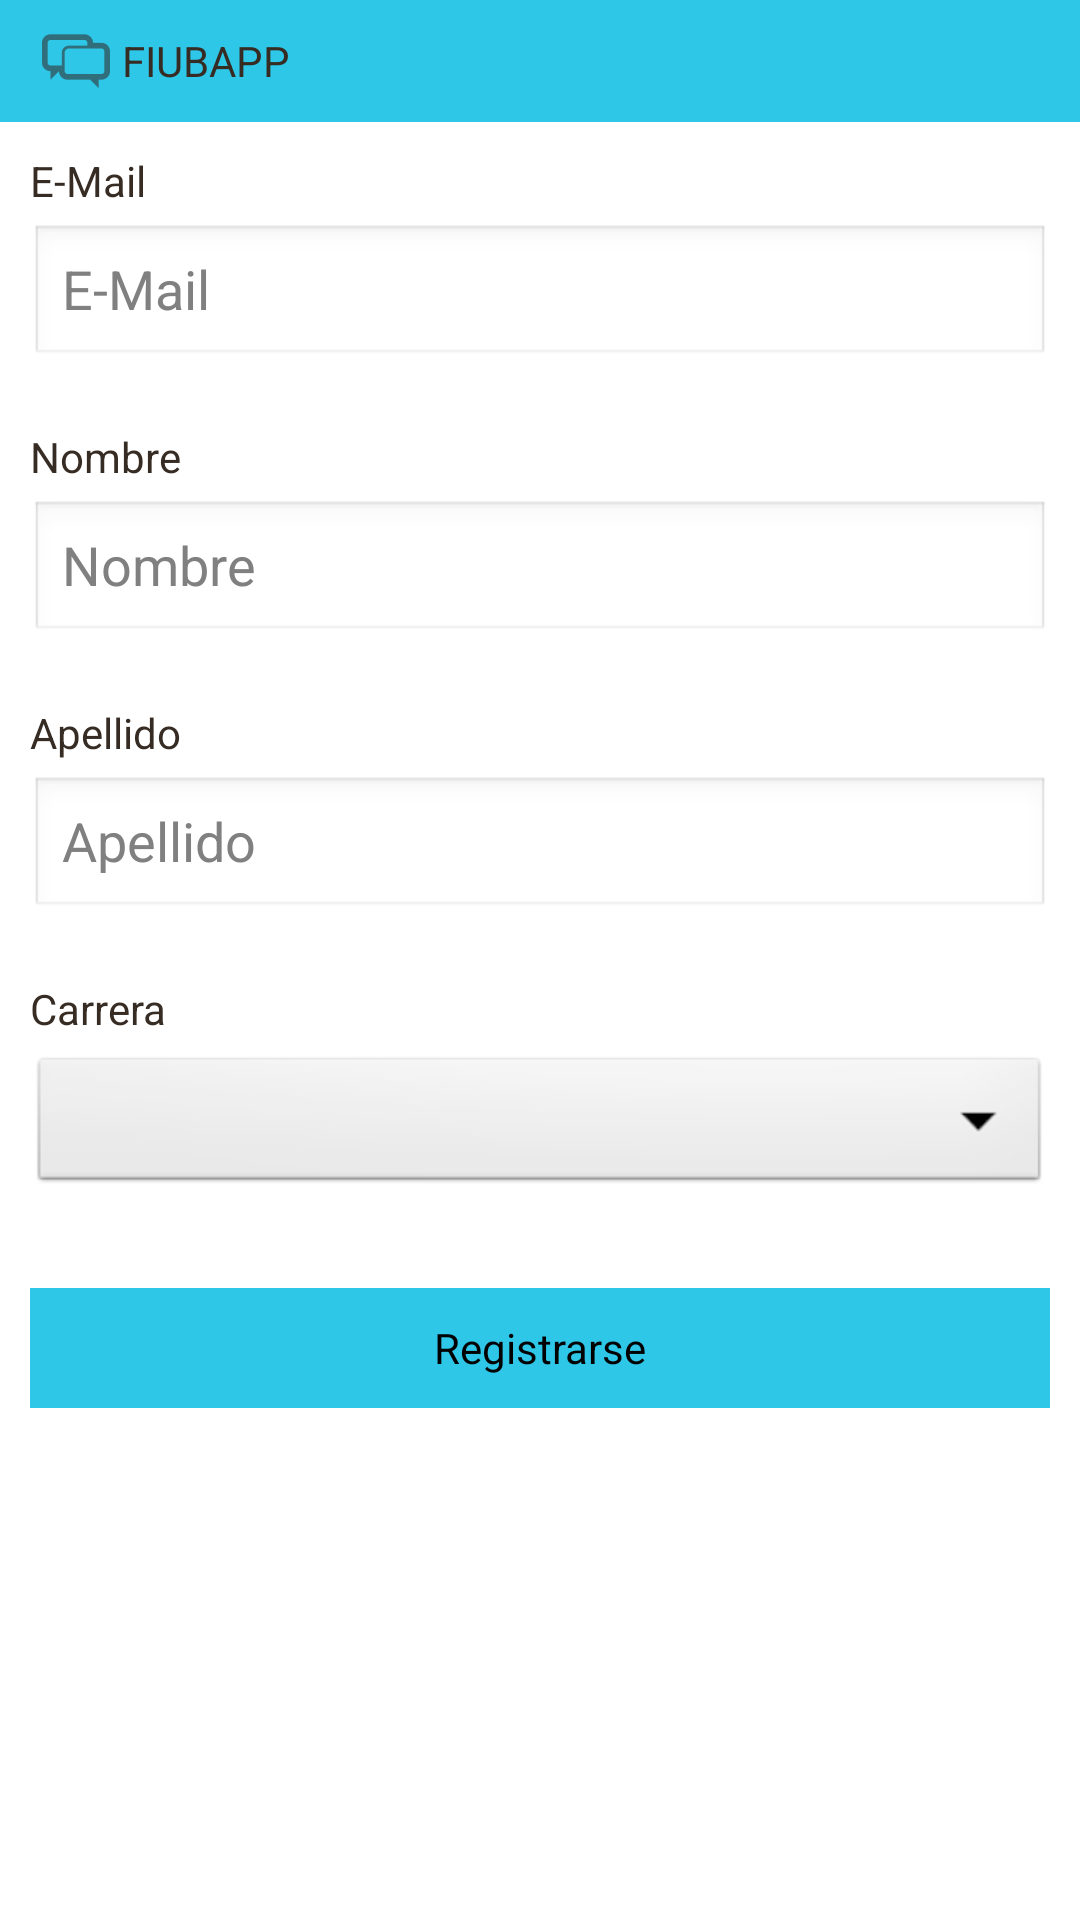

Locate icon controls on the screen. Image size 1080 x 1920, boxes as (left=x1, top=y1, right=x2, bottom=y2).
grupos: (left=42, top=34, right=110, bottom=88)
